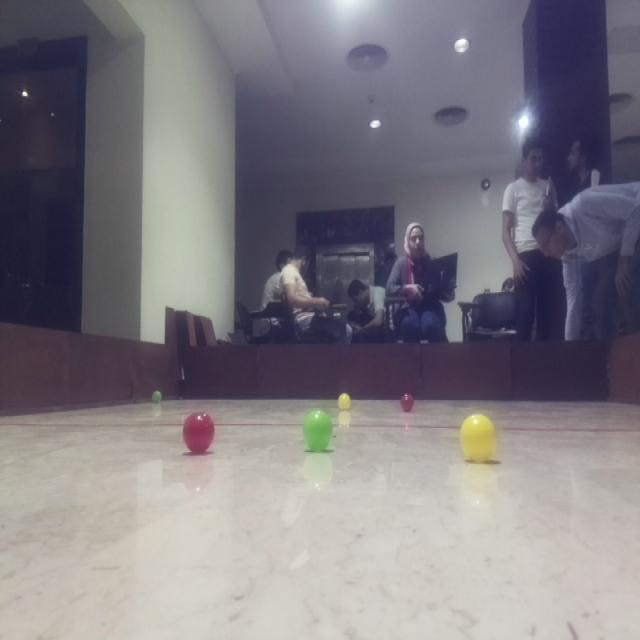ball: (456, 409, 501, 468), (180, 408, 218, 455), (299, 408, 337, 452), (333, 390, 355, 415), (397, 388, 418, 412), (148, 388, 166, 408)
